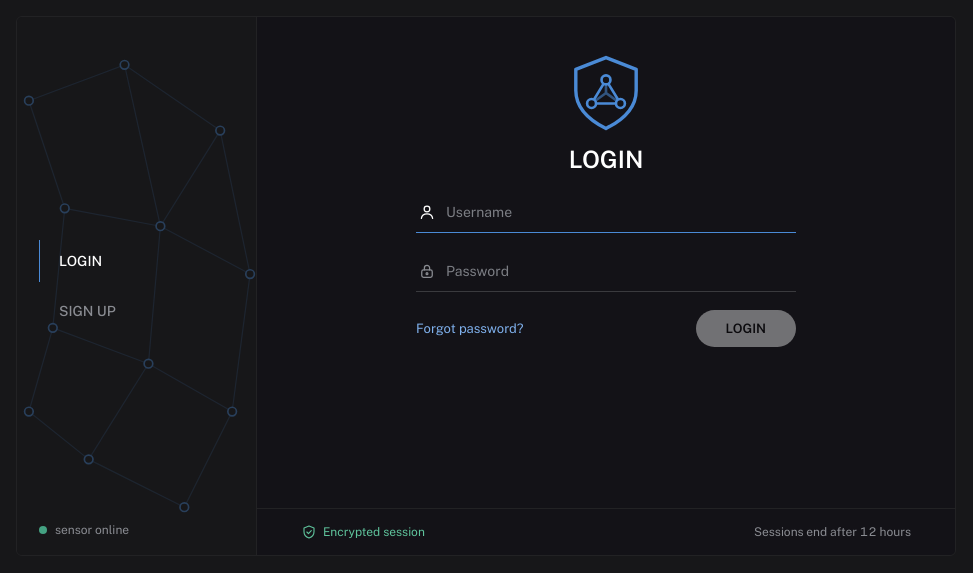
Test: signing in › shows the server's reason when the password is wrong
Type "alice" into the field with placeholder "Username".
click(620, 212); type("alice")  # box [446, 198, 794, 226]
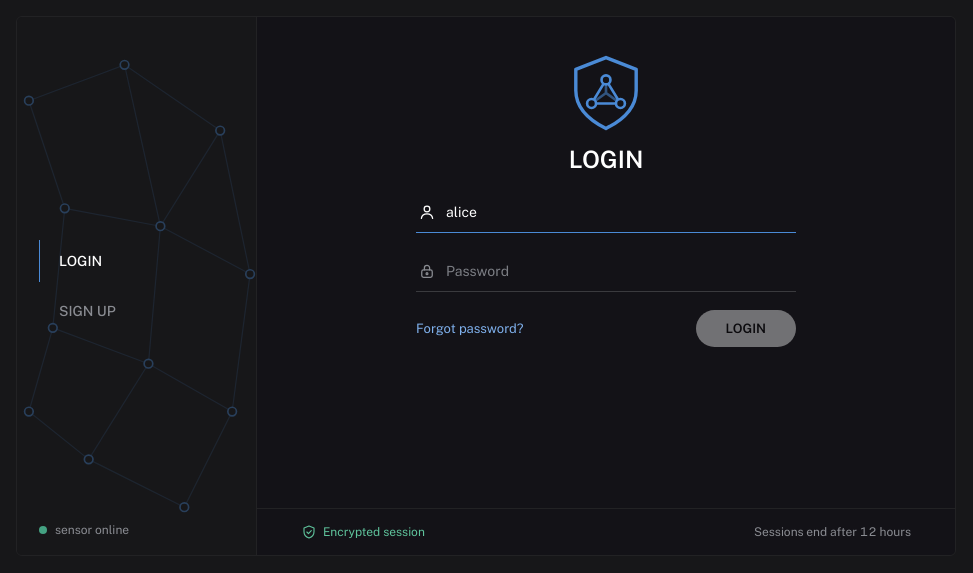
Type "nope-nope-nope" into the password field with placeholder "Password".
click(620, 271); type("nope-nope-nope")  # box [446, 257, 794, 285]
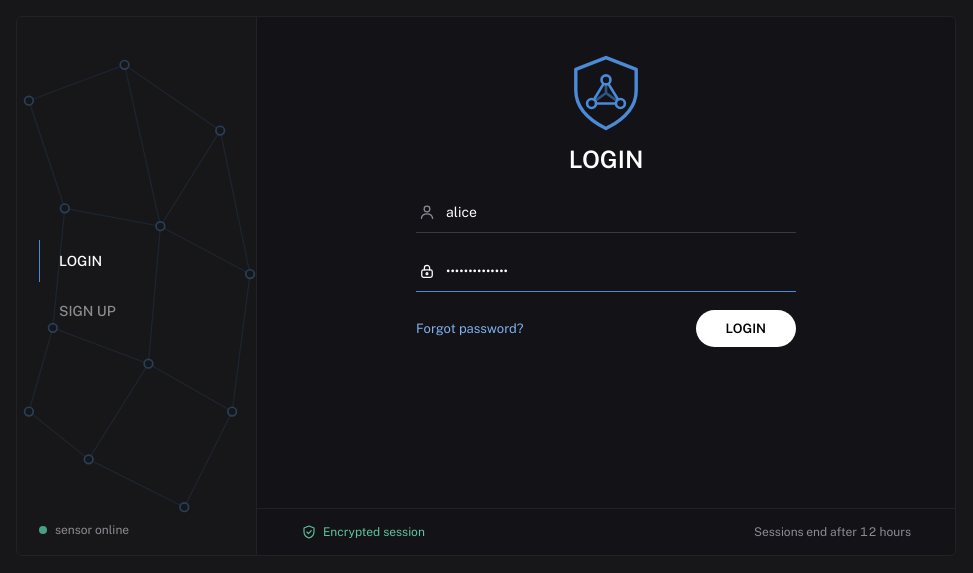
Click the button with class "auth-go".
click(746, 328)  # box [696, 310, 796, 347]
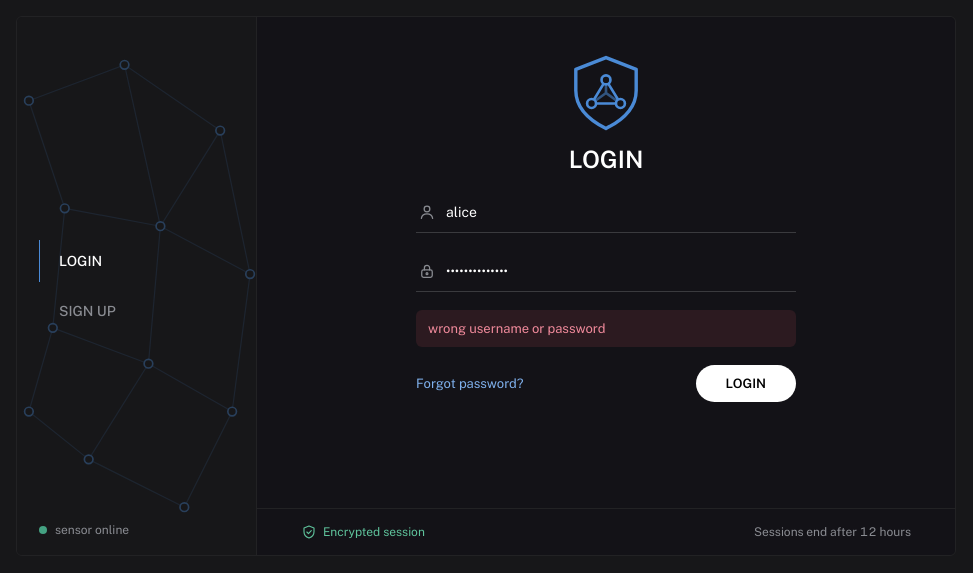
Expected: the text "wrong username or password" is shown, [416, 310, 796, 347]
